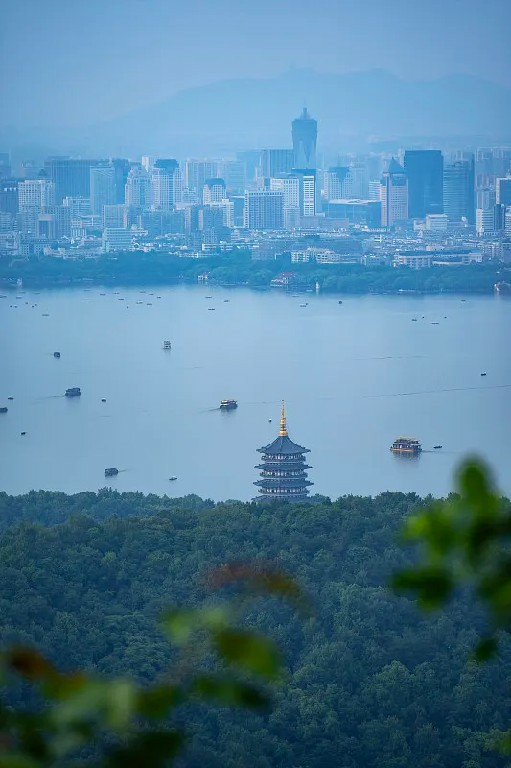Leifeng: (251, 398, 316, 497)
